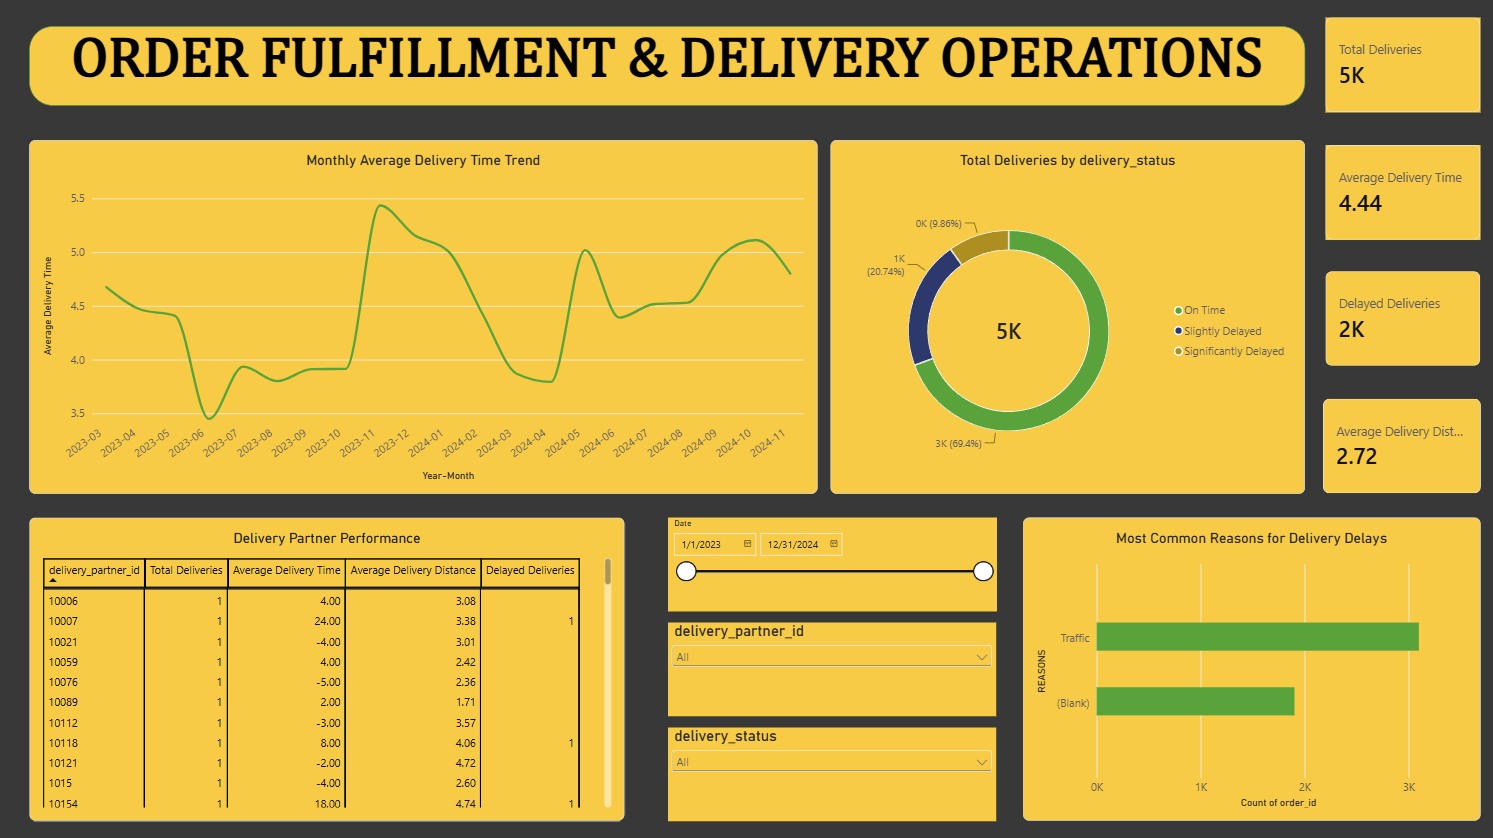

The page's visual inventory and layout, read from the dashboard file:
{"tool":"powerbi","page":{"name":"DELIVERY & LOGISTICS","canvas":[1920,1080],"ordinal":9},"visuals":[{"type":"cardVisual","fields":{"Data":["blinkit_delivery_performance.Average Delivery Time"]},"box":[1698.8,185.4,198.8,121.5],"z":0},{"type":"cardVisual","fields":{"Data":["blinkit_delivery_performance.Average Delivery Distance"]},"box":[1695.1,509.8,202.5,121.5],"z":1000},{"type":"cardVisual","fields":{"Data":["blinkit_delivery_performance.Delayed Deliveries"]},"box":[1698.8,347.6,198.8,121.5],"z":2000},{"type":"cardVisual","fields":{"Data":["blinkit_delivery_performance.Total Deliveries"]},"box":[1698.8,23.2,198.8,121.5],"z":3000},{"type":"lineChart","title":"Monthly Average Delivery Time Trend","fields":{"Category":["DateTable.Year-Month"],"Y":["blinkit_delivery_performance.Average Delivery Time"]},"box":[40.5,178.5,1008.6,452.8],"z":4000},{"type":"donutChart","fields":{"Category":["blinkit_delivery_performance.delivery_status"],"Y":["blinkit_delivery_performance.Total Deliveries"]},"box":[1065.6,178.5,607.4,452.8],"z":5000},{"type":"clusteredBarChart","title":"Most Common Reasons for Delivery Delays","fields":{"Category":["blinkit_delivery_performance.reasons_if_delayed"],"Y":["CountNonNull(blinkit_delivery_performance.order_id)"]},"box":[1312.3,662.6,585.3,388.3],"z":6000},{"type":"textbox","box":[40.5,33.1,1632.5,101.2],"z":7000},{"type":"tableEx","title":"Delivery Partner Performance","fields":{"Values":["blinkit_delivery_performance.delivery_partner_id","blinkit_delivery_performance.Total Deliveries","blinkit_delivery_performance.Average Delivery Time","blinkit_delivery_performance.Average Delivery Distance","blinkit_delivery_performance.Delayed Deliveries"]},"box":[40.5,662.6,762,388.3],"z":8000},{"type":"slicer","fields":{"Values":["DateTable.Date"]},"box":[857.7,662.6,419.6,119.6],"z":9000},{"type":"slicer","fields":{"Values":["blinkit_delivery_performance.delivery_partner_id"]},"box":[857.7,796.9,419.6,119.6],"z":10000},{"type":"slicer","fields":{"Values":["blinkit_delivery_performance.delivery_status"]},"box":[857.7,931.3,419.6,119.6],"z":11000}]}

Visuals, with their boxes in screenshot pixels (x1, y1, x2, y2), scaled from the page's 1920x1080 canvas onto the 1493x838 screenshot:
cardVisual - blinkit_delivery_performance.Average Delivery Time: l=1321, t=144, r=1476, b=238
cardVisual - blinkit_delivery_performance.Average Delivery Distance: l=1318, t=396, r=1476, b=490
cardVisual - blinkit_delivery_performance.Delayed Deliveries: l=1321, t=270, r=1476, b=364
cardVisual - blinkit_delivery_performance.Total Deliveries: l=1321, t=18, r=1476, b=112
"Monthly Average Delivery Time Trend" lineChart: l=31, t=139, r=816, b=490
donutChart - blinkit_delivery_performance.delivery_status x blinkit_delivery_performance.Total Deliveries: l=829, t=139, r=1301, b=490
"Most Common Reasons for Delivery Delays" clusteredBarChart: l=1020, t=514, r=1476, b=815
textbox: l=31, t=26, r=1301, b=104
"Delivery Partner Performance" tableEx: l=31, t=514, r=624, b=815
slicer - DateTable.Date: l=667, t=514, r=993, b=607
slicer - blinkit_delivery_performance.delivery_partner_id: l=667, t=618, r=993, b=711
slicer - blinkit_delivery_performance.delivery_status: l=667, t=723, r=993, b=815
